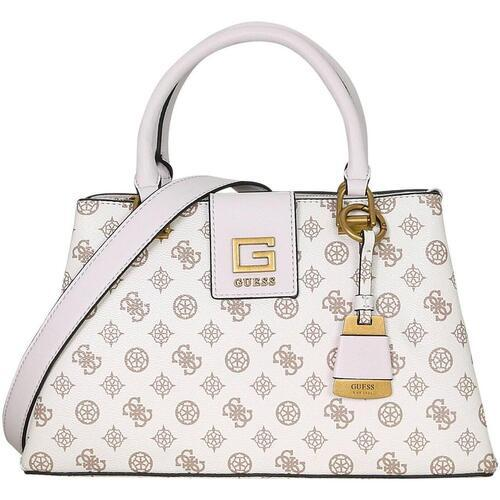GUESS: (233, 277, 276, 287), (351, 383, 374, 390)
